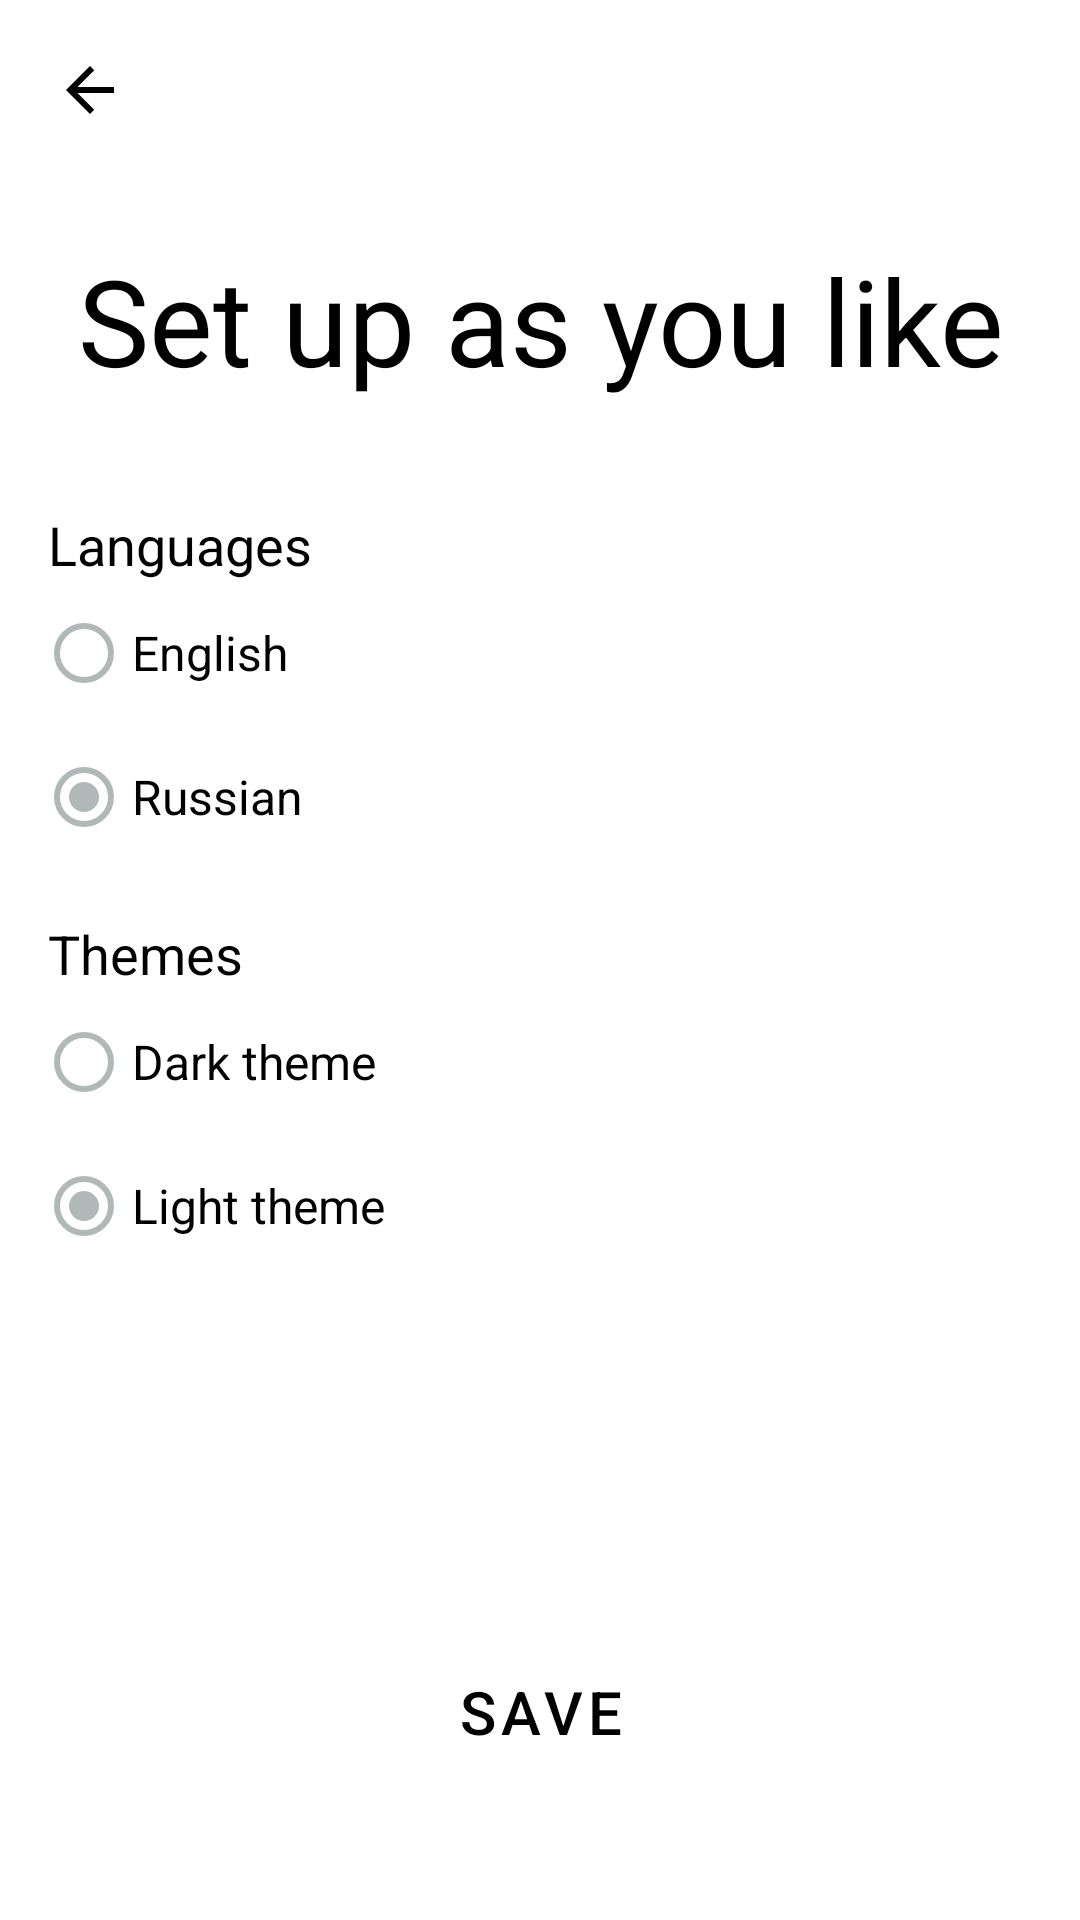

Locate icon controls on the screen. Image size 1080 × 1920, boxes as BBox(x1, y1, x2, y2).
Back: BBox(66, 66, 114, 114)
